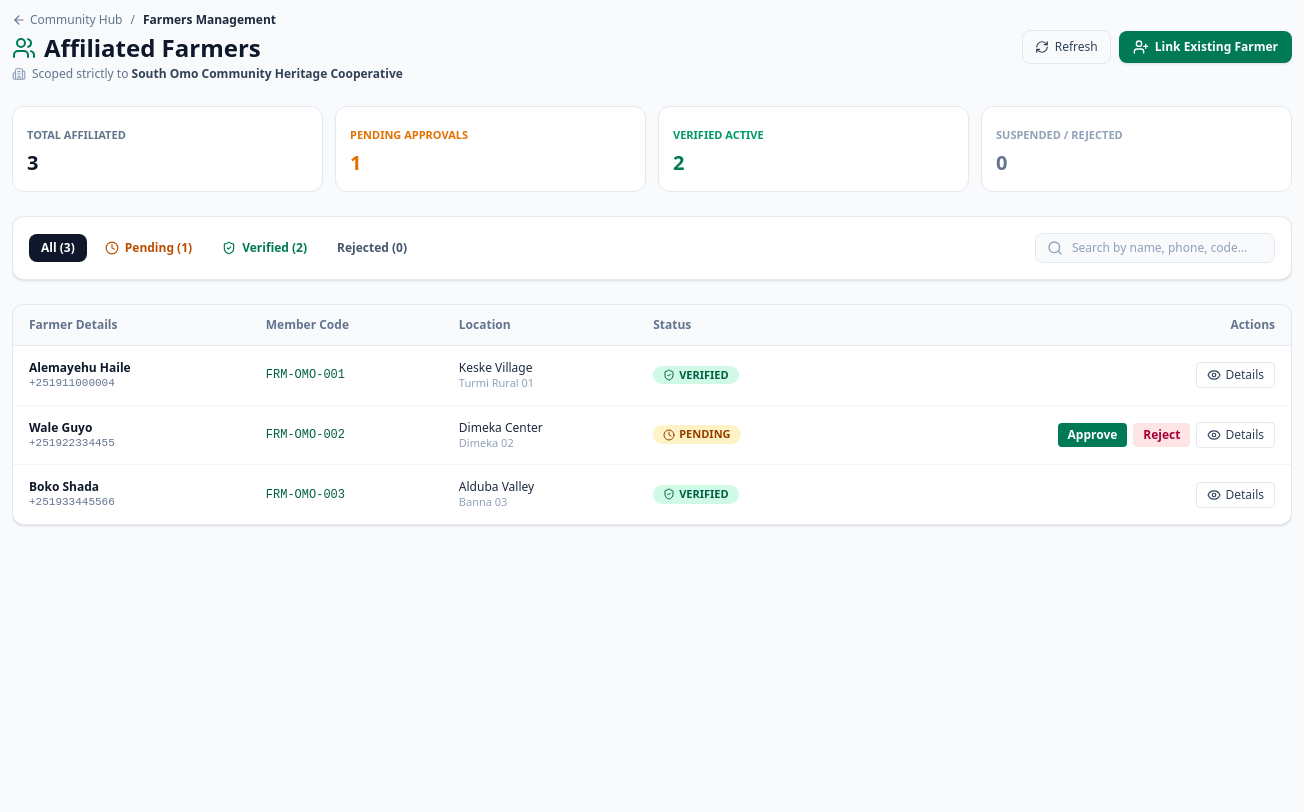
Test: Farmers Management & Enterprise Isolation (F-802) › allows rejecting a pending farmer
Step 1. Click the button with test id "reject-farmer-farmer-uuid-002" → click(1162, 435), box [1133, 423, 1190, 447]
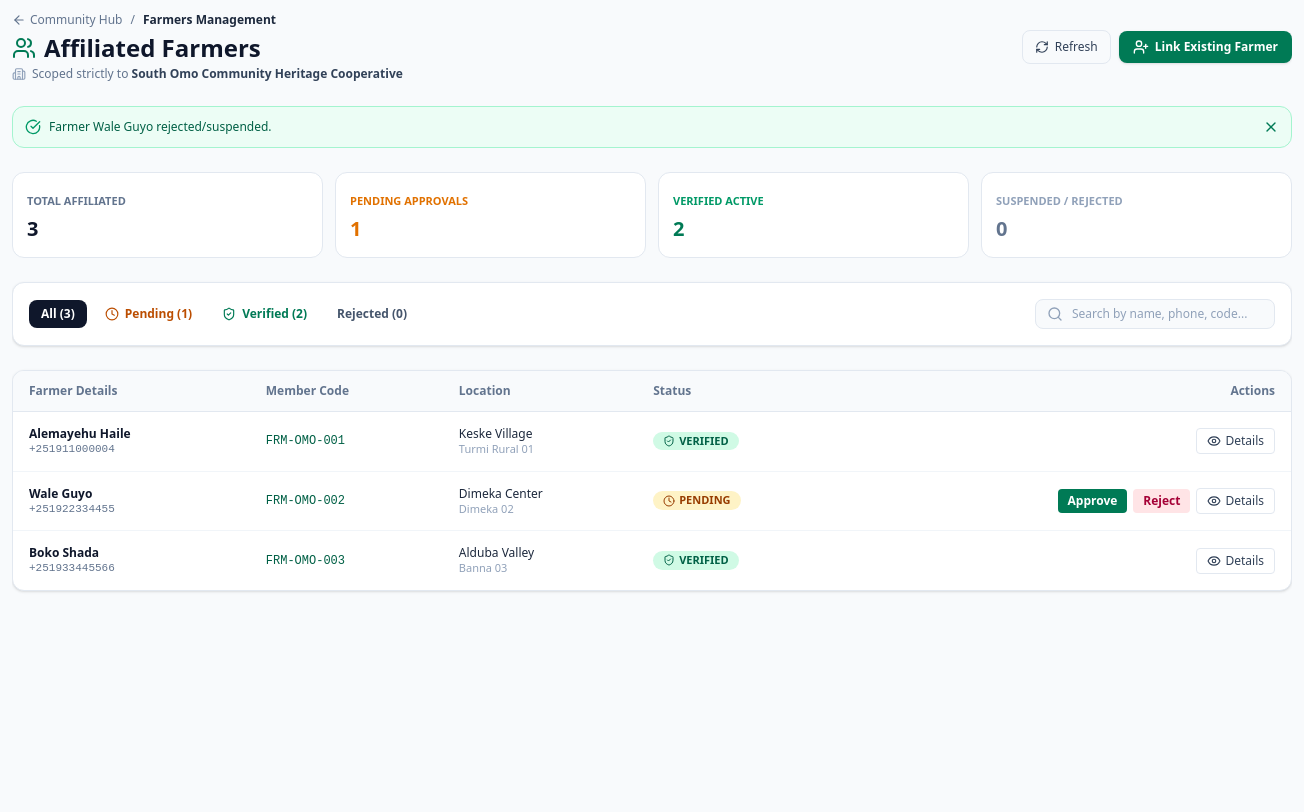
Expected: the text "Farmer Wale Guyo rejected/suspended." is shown, [49, 119, 272, 135]
